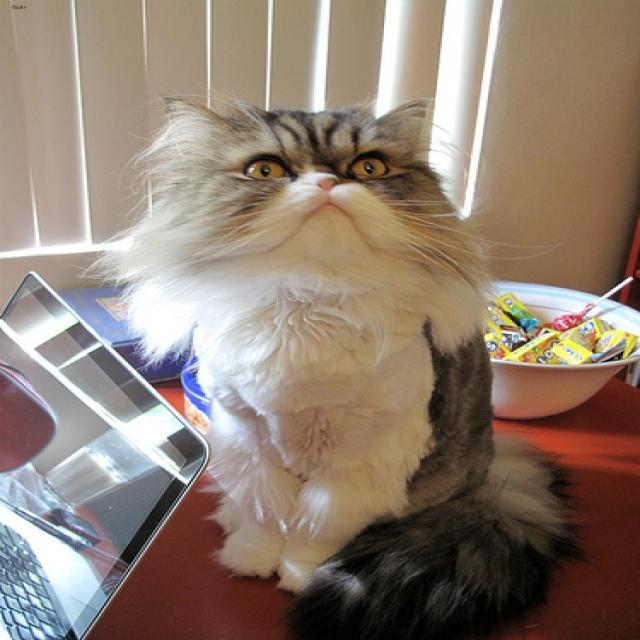Persian: (162, 96, 427, 253)
